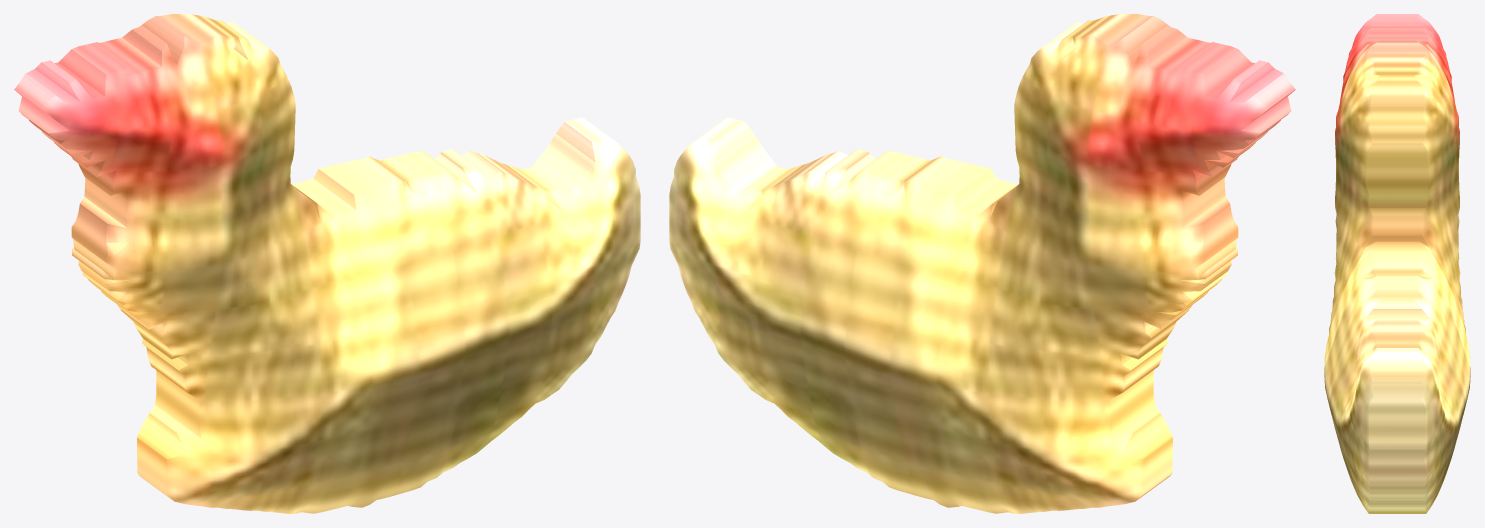
3 views of the same model, side by side, from view 1: azimuth 30°, elevation 25°; view 2: azimuth 150°, elevation 25°; view 3: azimuth 270°, elevation 25° (orthographic). The views are drawn at different scales.
Size of the model in its own units: 1.9 by 1.55 by 0.5348.
1 material, 1 textured.
